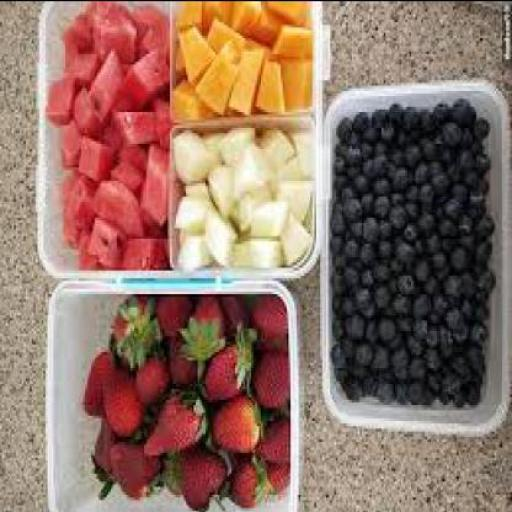biodegradable: (140, 385, 204, 454), (178, 438, 229, 510), (193, 34, 238, 114), (85, 0, 136, 66), (98, 364, 143, 438), (205, 390, 261, 448), (109, 290, 154, 362), (106, 438, 160, 494), (218, 449, 272, 504), (114, 48, 164, 106), (222, 45, 264, 111), (200, 338, 247, 396), (126, 2, 168, 66), (170, 124, 218, 180), (90, 180, 144, 229), (80, 335, 112, 415), (89, 417, 119, 499), (174, 314, 225, 362), (249, 340, 286, 404), (138, 140, 164, 230), (176, 21, 212, 82), (88, 48, 120, 116), (240, 196, 288, 240), (243, 296, 285, 343), (217, 124, 259, 171), (132, 351, 167, 406), (276, 209, 311, 264), (86, 211, 122, 264), (206, 200, 235, 262), (253, 55, 285, 111), (269, 174, 311, 216), (279, 53, 311, 108), (170, 74, 209, 119), (164, 330, 196, 383), (188, 294, 223, 342), (44, 74, 79, 122), (230, 322, 256, 386), (204, 164, 236, 214), (269, 18, 311, 56), (116, 232, 162, 266), (63, 172, 93, 224), (251, 414, 287, 456), (230, 234, 278, 264), (237, 140, 269, 185), (61, 8, 87, 63), (71, 85, 101, 132), (154, 293, 189, 332), (74, 135, 109, 174), (108, 156, 143, 195), (255, 127, 290, 166), (61, 50, 95, 90), (245, 6, 281, 42), (260, 1, 306, 25), (216, 293, 242, 335), (174, 192, 208, 224), (115, 134, 142, 172), (58, 116, 80, 161), (237, 169, 271, 198), (61, 204, 83, 248), (176, 232, 206, 264), (134, 192, 159, 230), (152, 92, 168, 150), (271, 156, 303, 185), (206, 16, 235, 48), (74, 224, 96, 266), (200, 0, 226, 30), (446, 352, 472, 382), (440, 266, 466, 296), (263, 456, 287, 488), (229, 193, 251, 227), (202, 132, 224, 164), (175, 1, 202, 27), (393, 230, 413, 264), (367, 343, 392, 370), (162, 448, 178, 490), (448, 97, 474, 122), (390, 343, 406, 383), (423, 343, 445, 372), (462, 341, 484, 369), (230, 0, 249, 32), (440, 304, 462, 330), (370, 279, 389, 309), (59, 166, 75, 201), (376, 216, 398, 241), (449, 242, 468, 270), (470, 211, 492, 235), (182, 180, 208, 200), (350, 168, 368, 196), (101, 121, 121, 146), (421, 271, 441, 296), (372, 372, 391, 398), (344, 140, 361, 169), (173, 37, 186, 74), (409, 290, 429, 314), (465, 187, 484, 212), (374, 193, 390, 222), (346, 308, 364, 333), (472, 234, 488, 262), (474, 266, 492, 290), (411, 158, 427, 185), (332, 111, 348, 138), (392, 163, 409, 188), (386, 200, 403, 225), (437, 211, 457, 232), (340, 256, 354, 286), (330, 263, 344, 293), (441, 118, 460, 140), (387, 290, 409, 309), (400, 219, 422, 238), (408, 356, 424, 382), (376, 312, 392, 338), (430, 98, 446, 124), (401, 140, 417, 166), (399, 103, 413, 132), (463, 377, 479, 402), (417, 179, 433, 204), (342, 192, 358, 217), (330, 358, 348, 380), (395, 272, 417, 290), (457, 203, 470, 233), (457, 266, 470, 296), (362, 211, 375, 241), (430, 182, 446, 206), (372, 134, 389, 156), (457, 226, 470, 254), (415, 106, 429, 132), (336, 180, 356, 198), (437, 137, 454, 158), (392, 309, 409, 330), (354, 340, 370, 362), (408, 314, 424, 336), (342, 232, 358, 254), (372, 150, 385, 177), (451, 382, 465, 407), (178, 228, 207, 240), (348, 356, 366, 375), (467, 320, 484, 340), (406, 333, 422, 354), (419, 206, 433, 230), (352, 108, 366, 132), (414, 255, 427, 280), (370, 105, 383, 130), (354, 284, 367, 309), (332, 314, 344, 341), (356, 261, 368, 288), (471, 116, 488, 135), (427, 166, 444, 185), (468, 285, 488, 301), (424, 320, 440, 340), (419, 132, 431, 158), (330, 208, 344, 230), (472, 150, 488, 169), (405, 377, 417, 402), (340, 332, 352, 357), (457, 121, 469, 146), (360, 370, 374, 391), (332, 169, 346, 190), (342, 375, 358, 393), (456, 148, 472, 166), (450, 180, 466, 198), (380, 119, 396, 137), (474, 172, 488, 192), (462, 166, 475, 187), (406, 198, 419, 219), (361, 121, 374, 142), (359, 137, 372, 158), (384, 328, 401, 344), (370, 258, 387, 274), (376, 238, 393, 254), (445, 156, 458, 176), (364, 312, 374, 338), (439, 235, 455, 251), (429, 248, 445, 264), (430, 264, 446, 280), (425, 306, 441, 322), (360, 298, 376, 314), (404, 182, 417, 201), (385, 100, 398, 119), (449, 325, 462, 343), (431, 288, 445, 304), (358, 240, 372, 256), (344, 127, 358, 143), (427, 124, 437, 146), (389, 143, 401, 161), (338, 293, 350, 311), (473, 304, 486, 320), (445, 198, 458, 214), (390, 190, 403, 206), (372, 175, 388, 187), (330, 248, 342, 264), (330, 150, 342, 166), (435, 369, 445, 388), (393, 377, 403, 396), (330, 340, 340, 359), (362, 190, 372, 209), (472, 256, 482, 274), (330, 230, 340, 248), (425, 232, 435, 248), (468, 135, 481, 147), (360, 153, 367, 174), (409, 127, 417, 145), (346, 220, 359, 230), (413, 238, 421, 254), (332, 195, 340, 211), (448, 370, 458, 382), (422, 386, 432, 398), (440, 388, 450, 398), (422, 370, 432, 380), (332, 293, 338, 309), (337, 138, 344, 150)
plastic: (34, 1, 335, 277), (318, 77, 508, 428), (44, 277, 298, 509)
